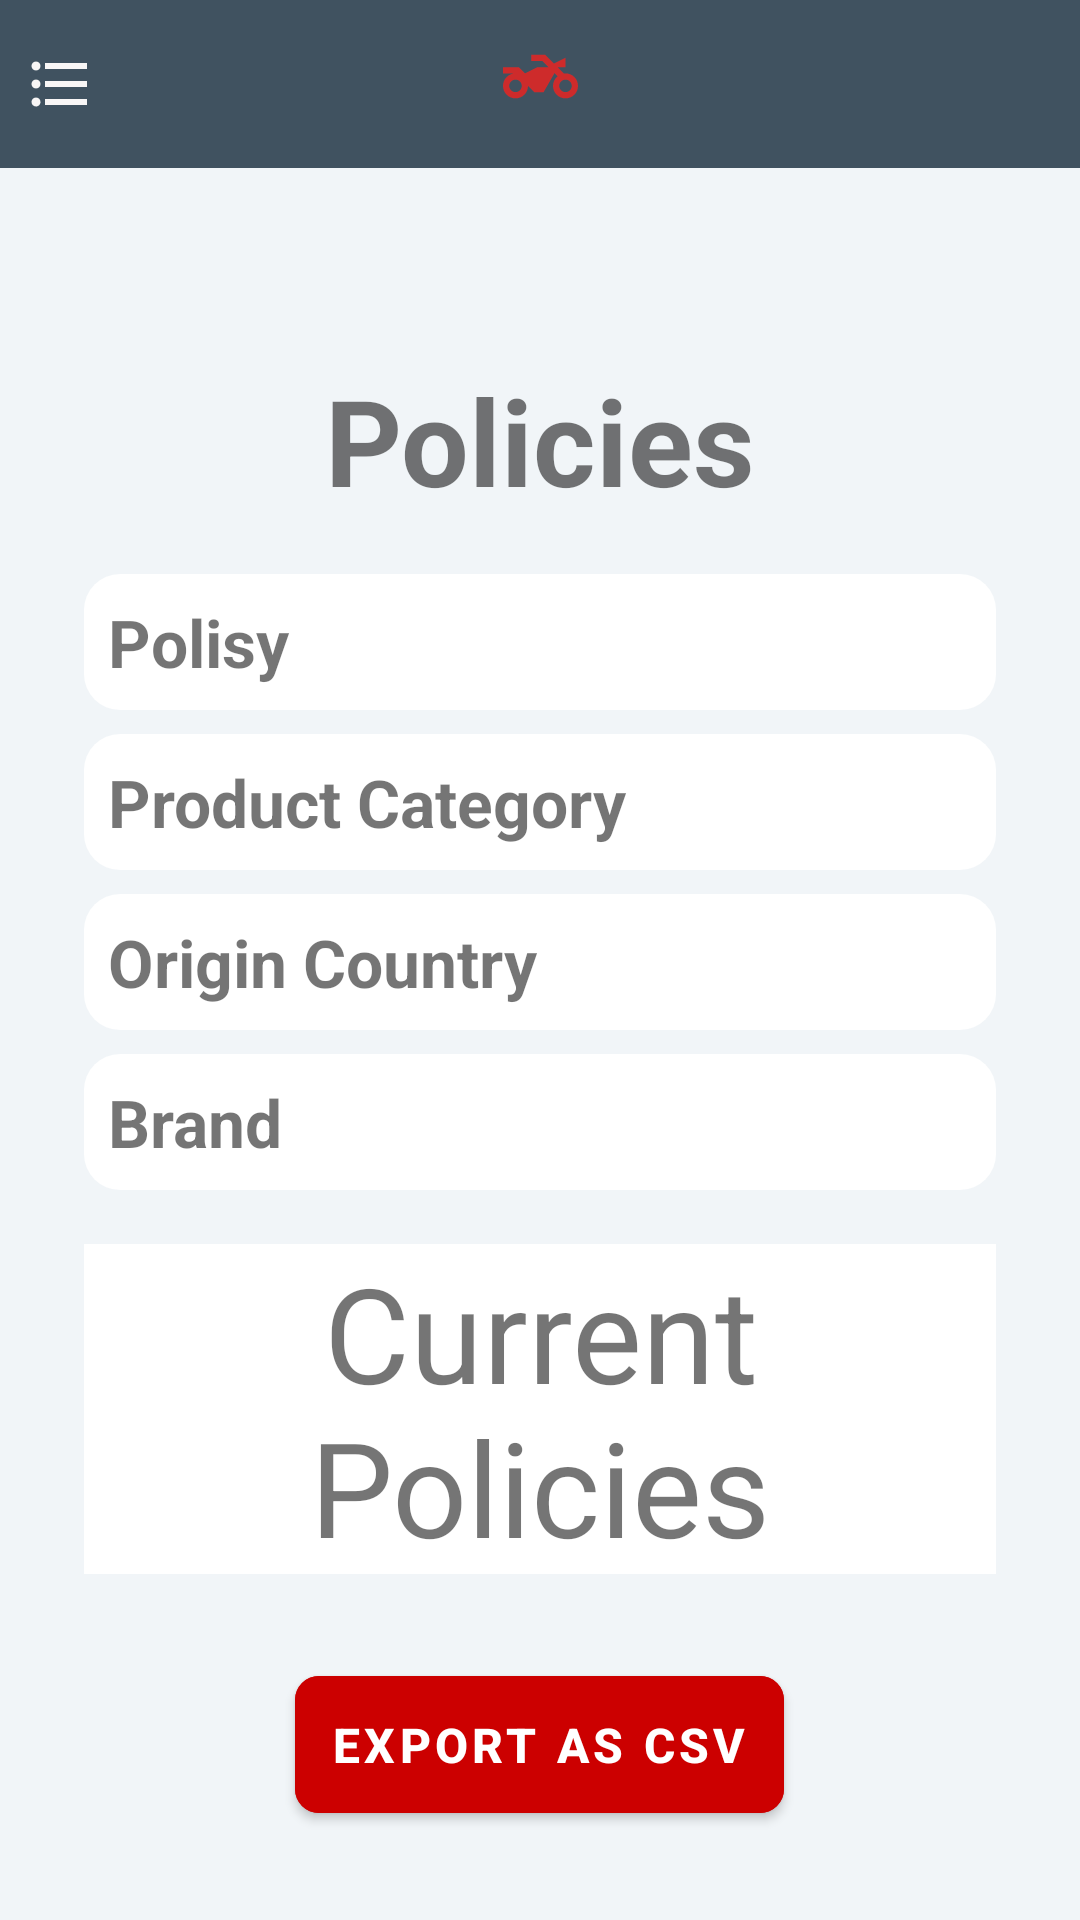

Icon click points for this 1080 x 1920 phone screenshot, format (x,y):
moto: (540,76)
